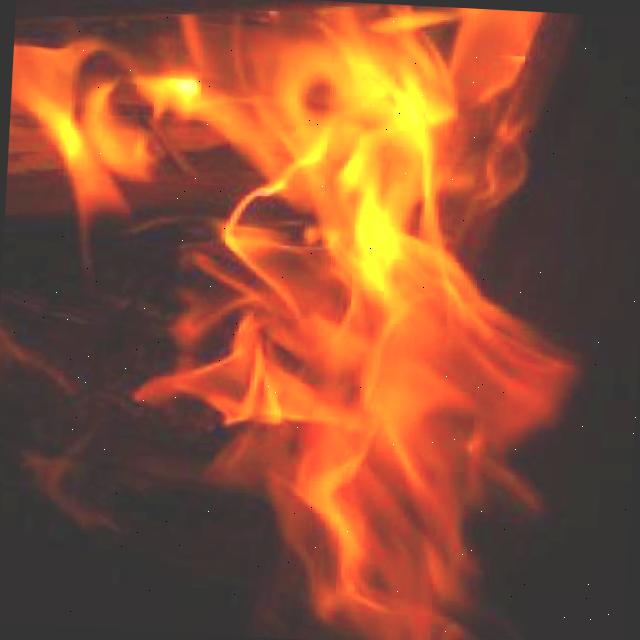fire: (131, 0, 593, 632), (4, 0, 535, 269)
